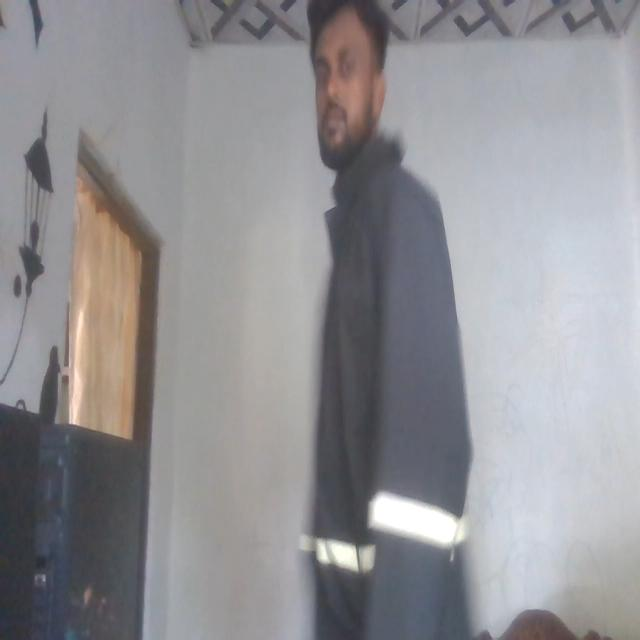Jacket_Wearer: (294, 140, 476, 640)
Person: (288, 0, 472, 640)
